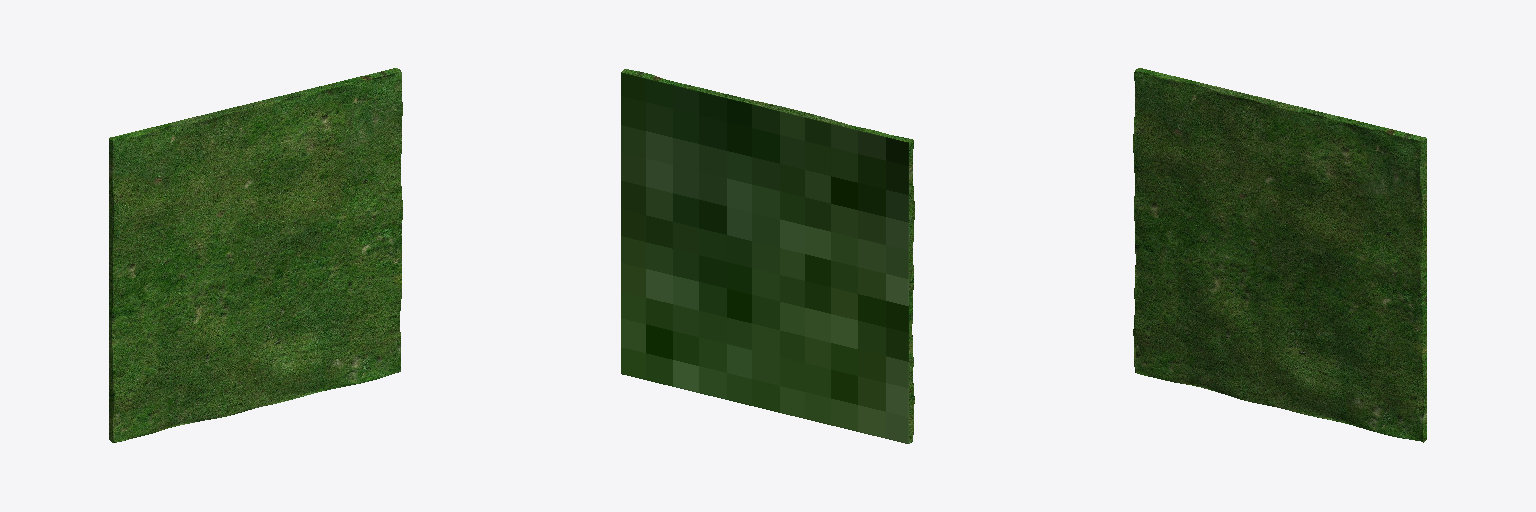
3 renders of one model, left to right at view 1: azimuth 30°, elevation 25°; view 2: azimuth 150°, elevation 25°; view 3: azimuth 330°, elevation 25°, orthographic.
Visible parts, largest first — view 1: 10450_Rectangular_Grass_Patch_v1; view 2: 10450_Rectangular_Grass_Patch_v1; view 3: 10450_Rectangular_Grass_Patch_v1.
Boxes of the visible parts, <box> form: 10450_Rectangular_Grass_Patch_v1: <box>109,68,402,442</box>; 10450_Rectangular_Grass_Patch_v1: <box>621,69,914,443</box>; 10450_Rectangular_Grass_Patch_v1: <box>1133,68,1426,442</box>.
Bounding box in the file's own units: 300 × 300 × 11.78.
1 materials, 1 textured.